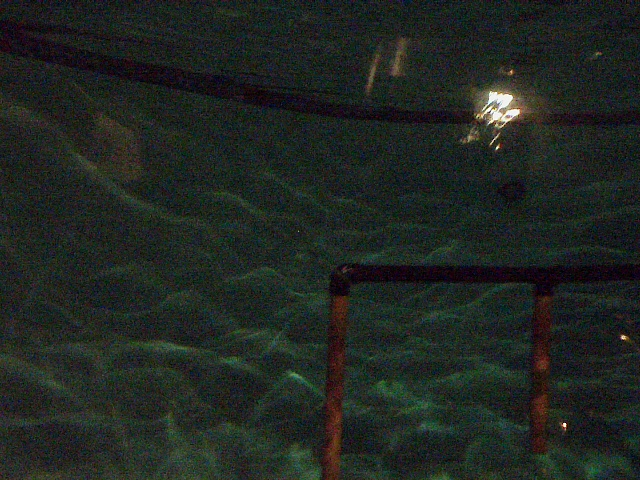Gate: (320, 278, 349, 480), (527, 279, 558, 459)
